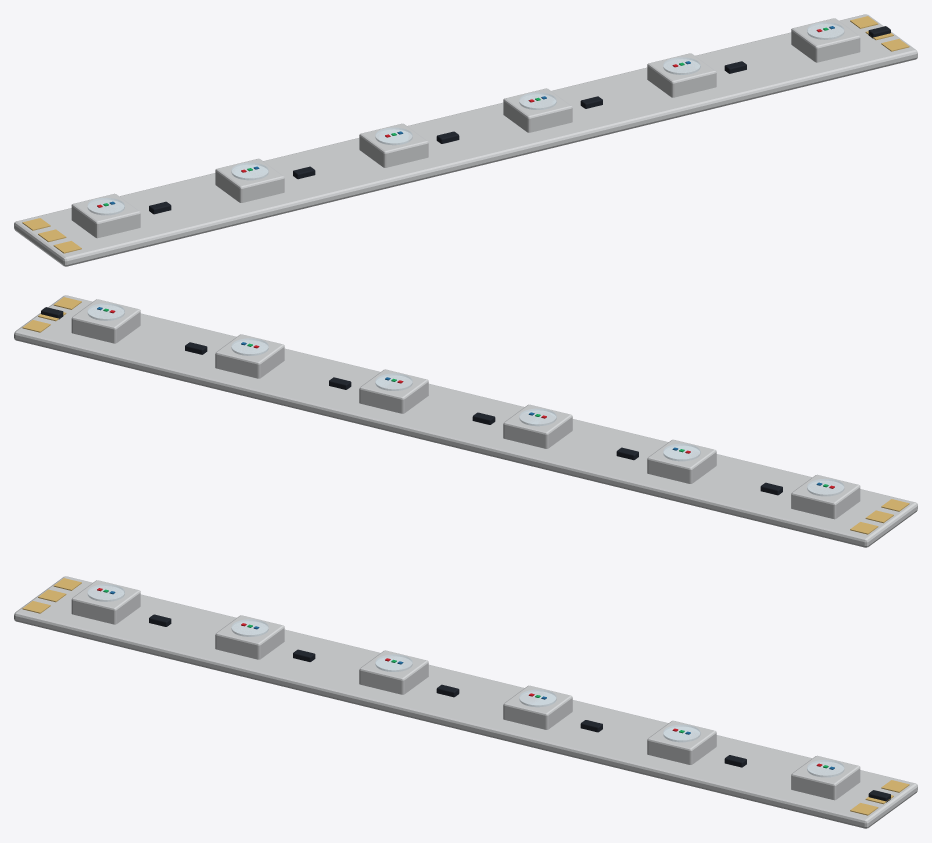
The model's file is led-strip.glb.
3 views of the same model, one above another, from view 1: azimuth 30°, elevation 25°; view 2: azimuth 150°, elevation 25°; view 3: azimuth 330°, elevation 25° (orthographic).
Parts seen in each view (by area): view 1: Static body • white, Static body • glass, Static body • black, Static body • gold; view 2: Static body • white, Static body • glass, Static body • black, Static body • gold; view 3: Static body • white, Static body • glass, Static body • black, Static body • gold.
Part boxes in pixels (x1,y1,x2,y2): Static body • white: (14, 14, 917, 266); Static body • glass: (87, 22, 844, 215); Static body • black: (149, 26, 890, 214); Static body • gold: (22, 16, 909, 253); Static body • white: (14, 295, 917, 547); Static body • glass: (87, 303, 844, 496); Static body • black: (41, 307, 782, 495); Static body • gold: (22, 297, 909, 534); Static body • white: (14, 576, 917, 828); Static body • glass: (87, 584, 844, 777); Static body • black: (149, 614, 890, 802); Static body • gold: (22, 578, 909, 815).
Size of the model in its own units: 95 by 3.05 by 10.
